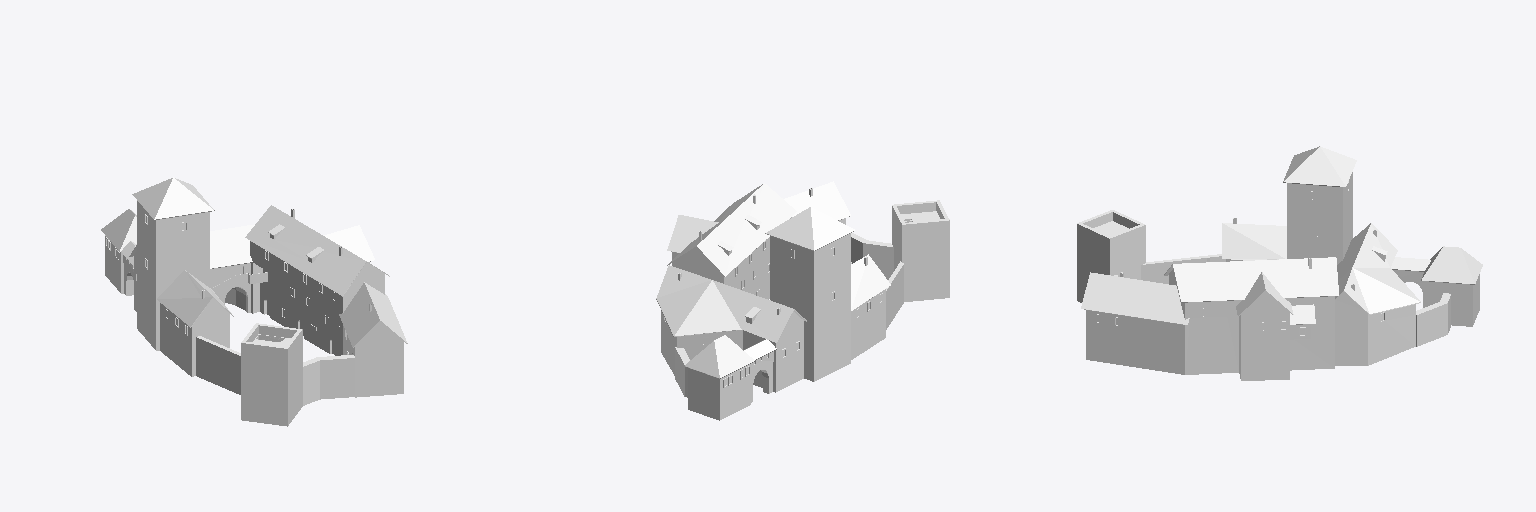
The model's file is castle.obj.
3 views of the same model, side by side, from view 1: azimuth 30°, elevation 25°; view 2: azimuth 150°, elevation 25°; view 3: azimuth 270°, elevation 25° (orthographic).
Visible parts, largest first — view 1: Default; view 2: Default; view 3: Default.
Part boxes in pixels (bbox=[...]): Default: bbox=[101, 177, 407, 426]; Default: bbox=[656, 181, 949, 420]; Default: bbox=[1077, 146, 1482, 380].
Bounding box in the file's own units: 27.88 × 21.43 × 49.85.